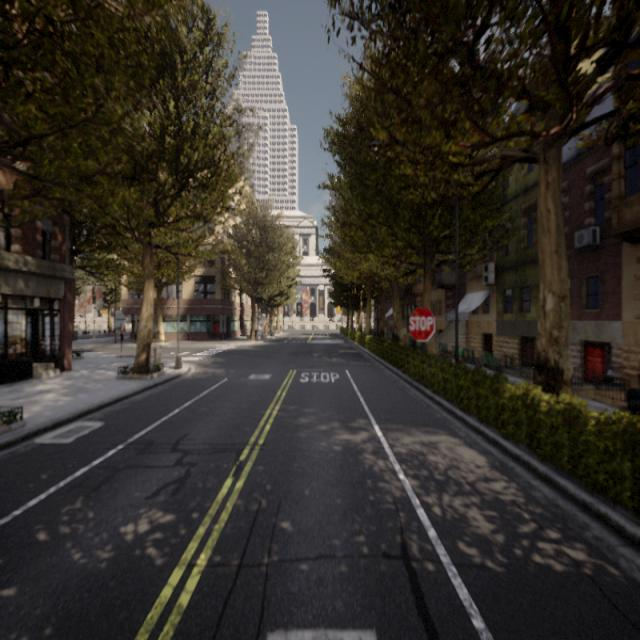stop sign: (406, 304, 436, 345)
